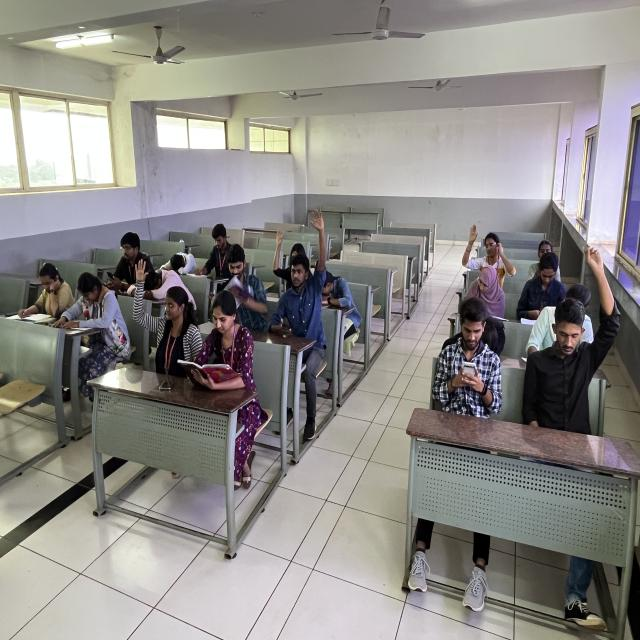Hand Rising: (521, 234, 617, 495), (280, 206, 339, 447), (132, 263, 204, 382), (457, 220, 538, 279)
Reading: (195, 287, 266, 489), (53, 270, 132, 407), (218, 240, 267, 334), (17, 263, 77, 321)
Sleeping: (157, 251, 197, 276)
Using Phone: (424, 293, 508, 425), (110, 232, 157, 296)
Writing: (195, 224, 235, 296)
